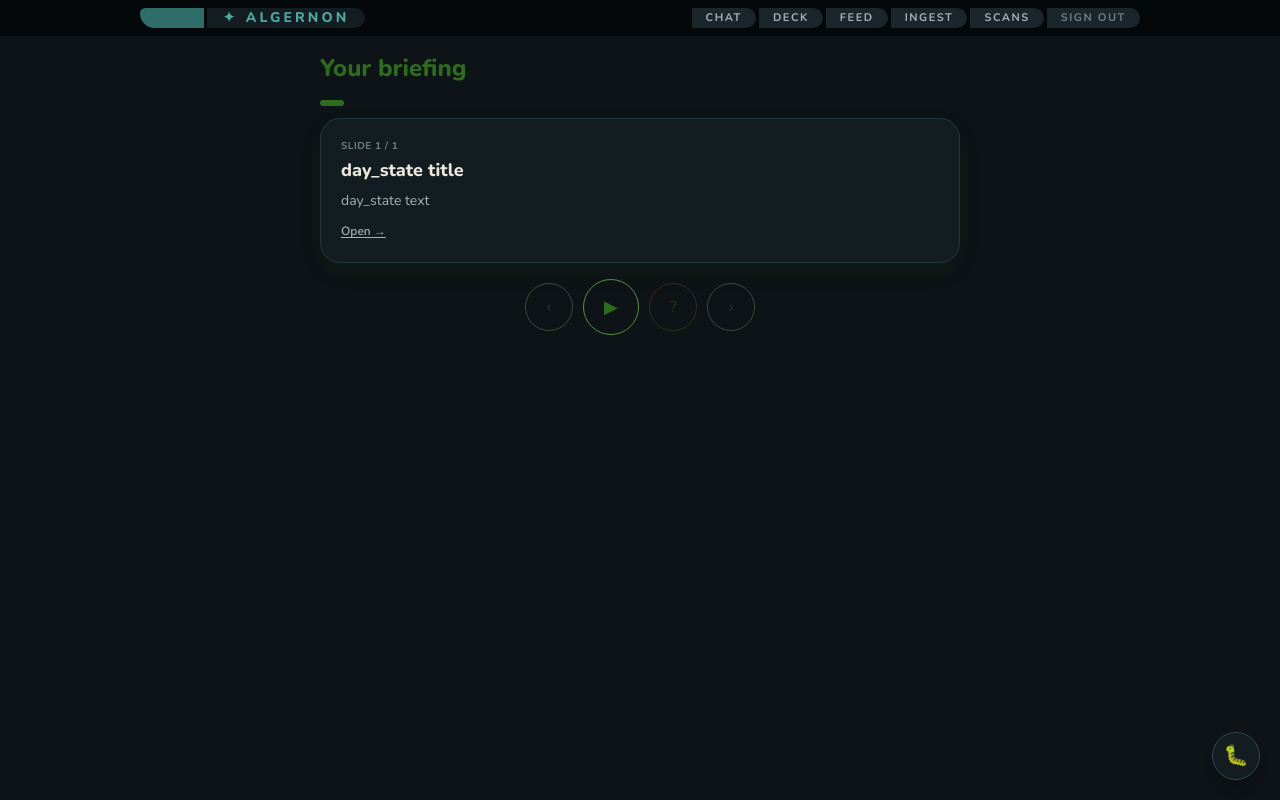
it: PlayerPage — controls + first-class interruption (C3c ask-wiring) › an ask failure shows an honest error and the keyboard stays live (no dead mic)
Check: the element with test id "player" is shown, box [320, 100, 960, 335]
Click the button with test id "player-play". click: click(611, 307)
box: [583, 279, 639, 335]
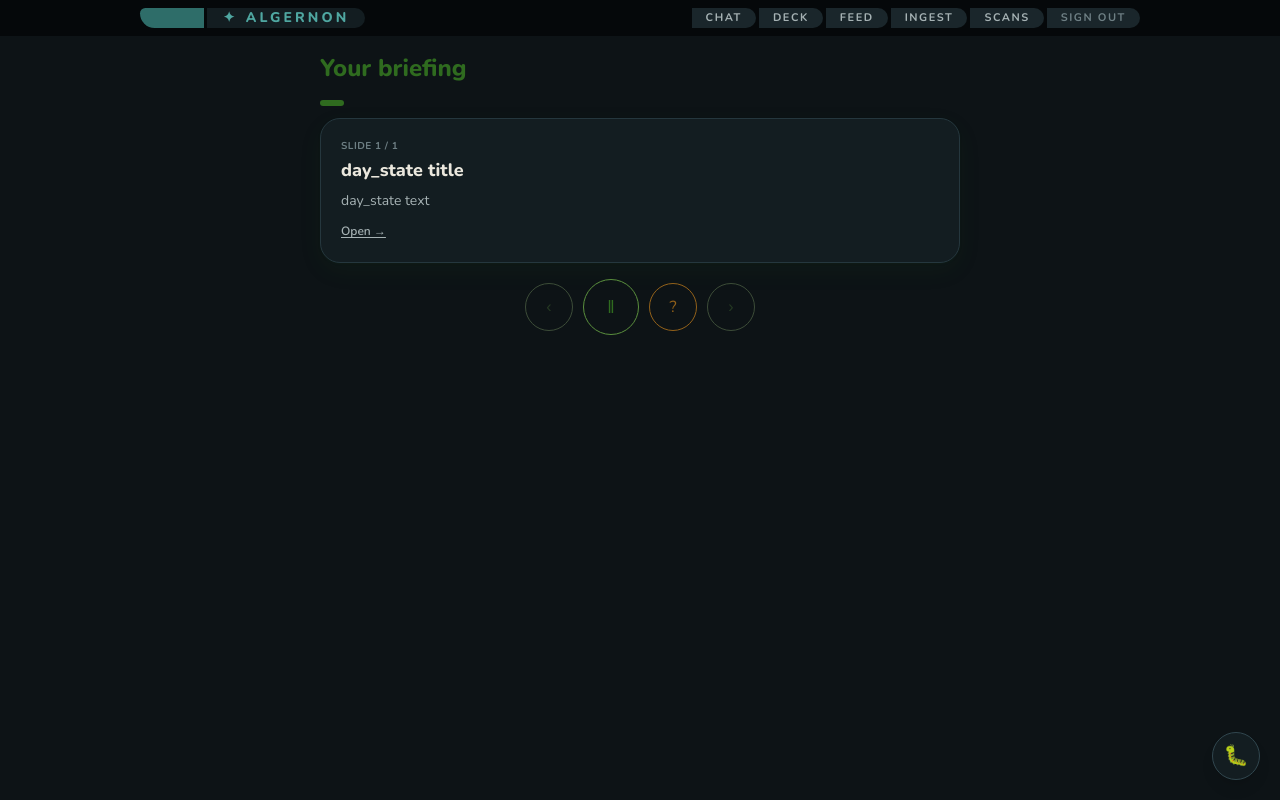
Click the button with test id "player-ask-open". click: click(673, 307)
box: [649, 283, 697, 331]
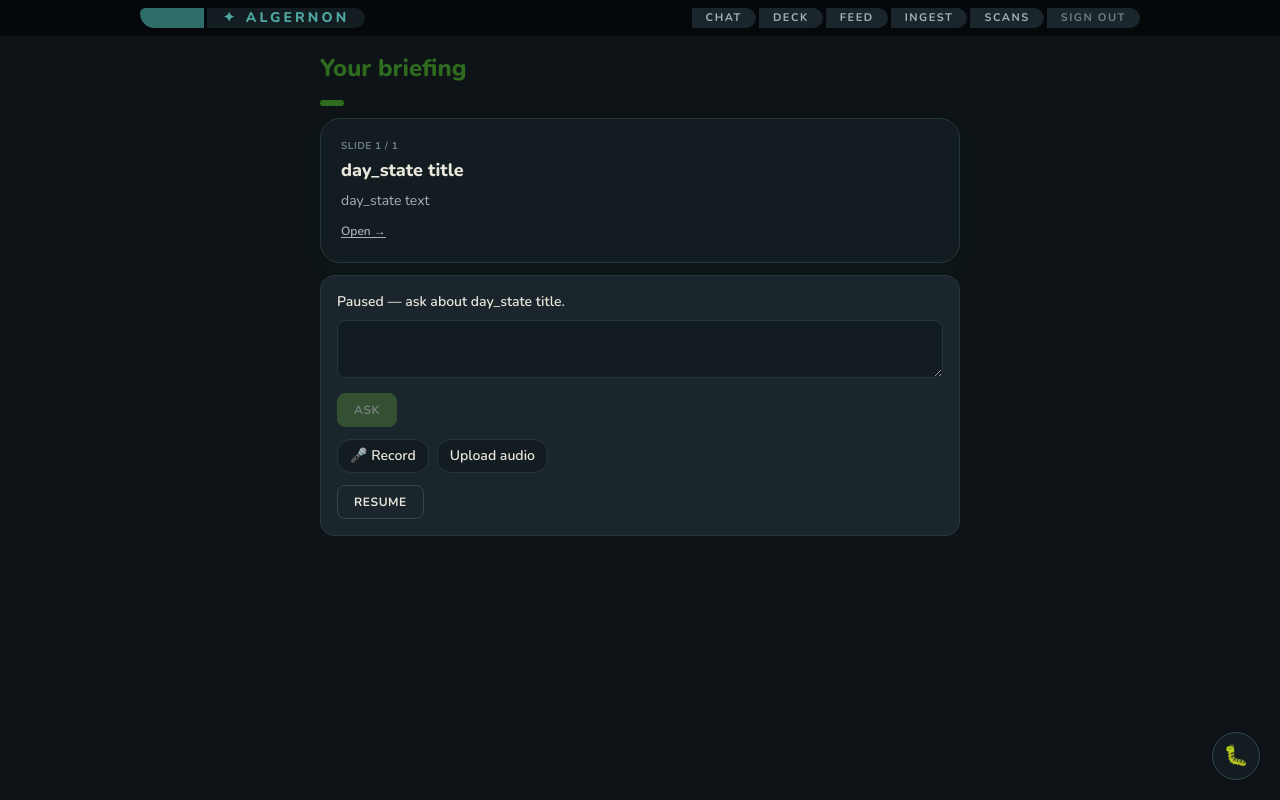
Type "hmm" into the text box with test id "player-ask-input". click: (640, 349)
box: [337, 320, 943, 378]
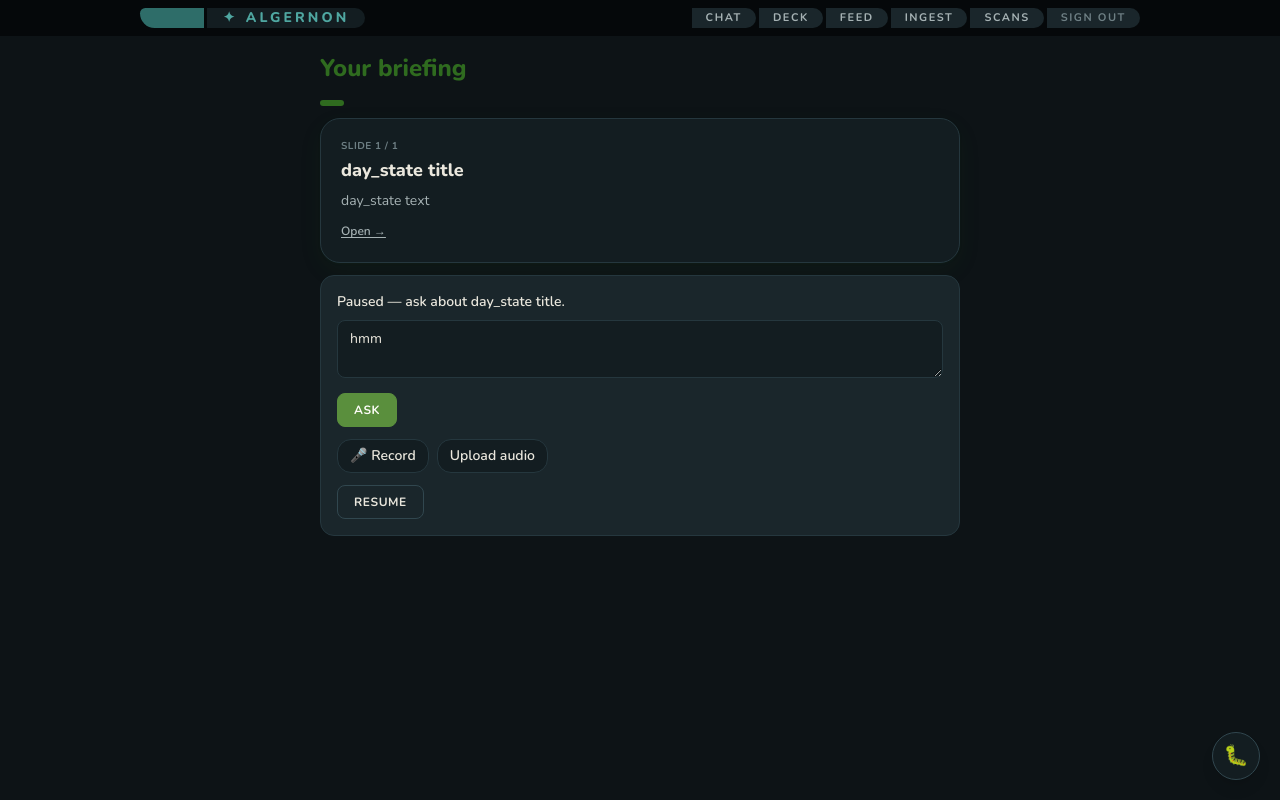
Click the button with test id "player-ask-send". click: click(367, 410)
box: [337, 393, 397, 427]
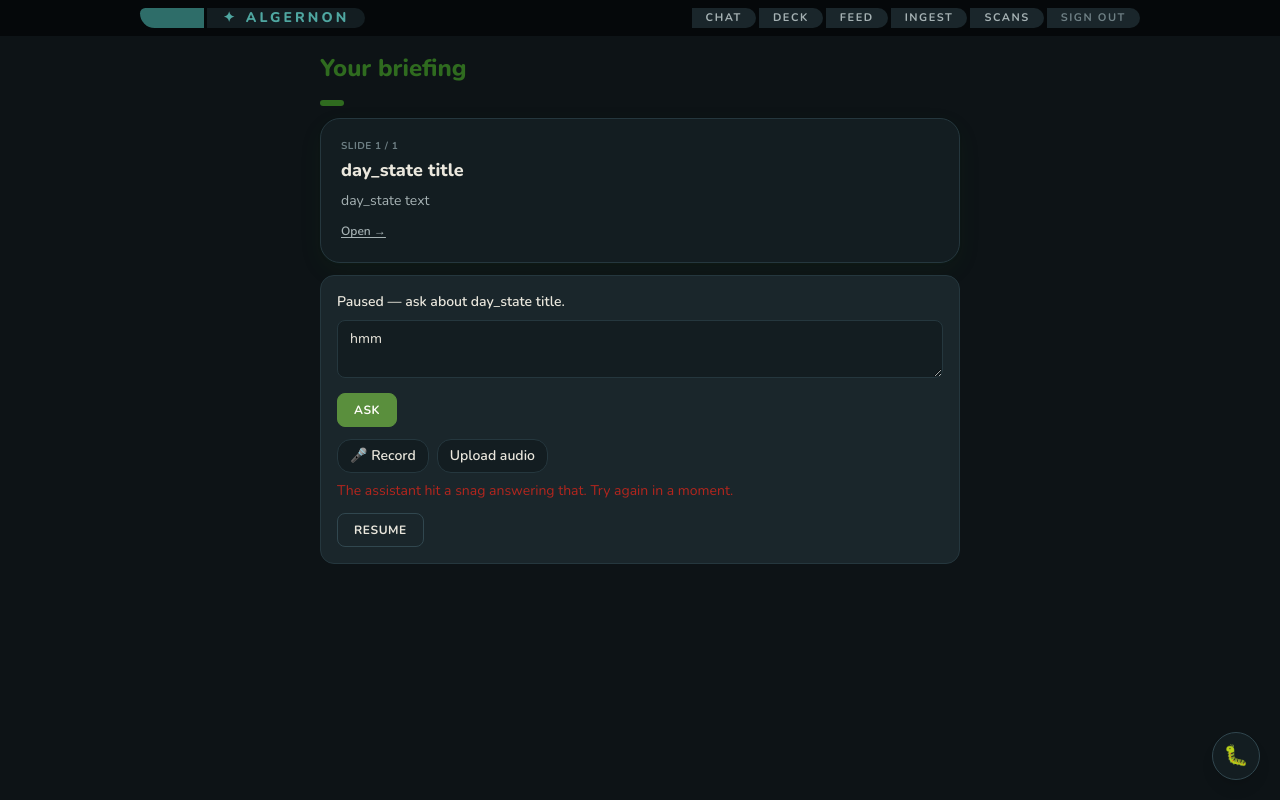
Check: the message "The assistant hit a snag answering that. Try again in a moment." is shown, box [337, 481, 733, 500]
